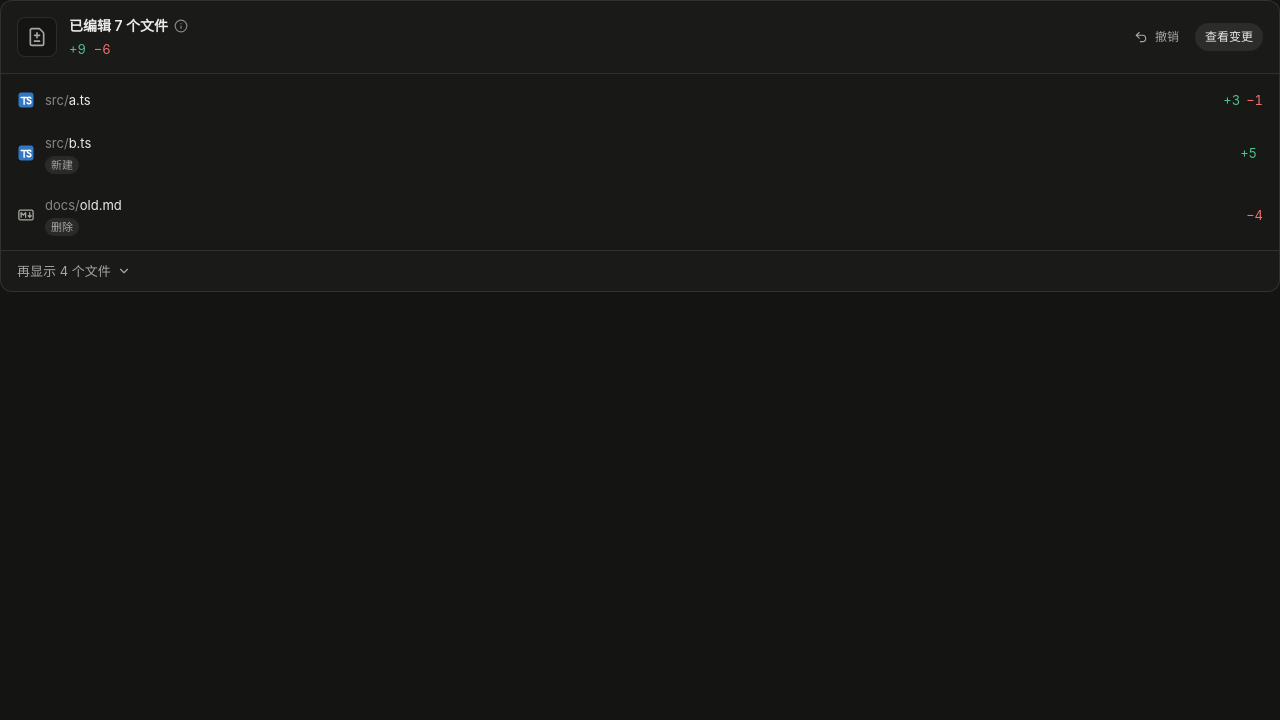
Test: TurnFilesCard › keeps the dialog open with the reason when undo is refused
Click the button "撤销". click: (1156, 37)
box: 1123,23 -> 1189,51
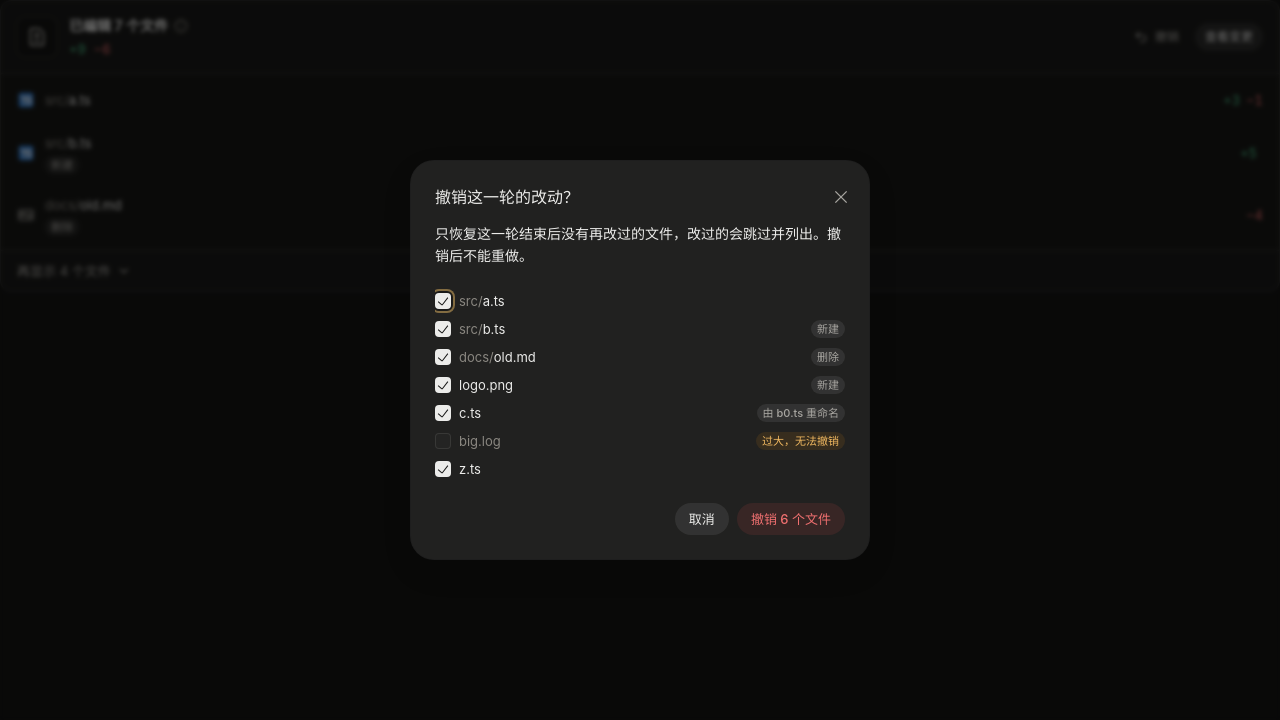
Click the button "撤销 6 个文件". click: (791, 519)
box: 737,503 -> 845,535
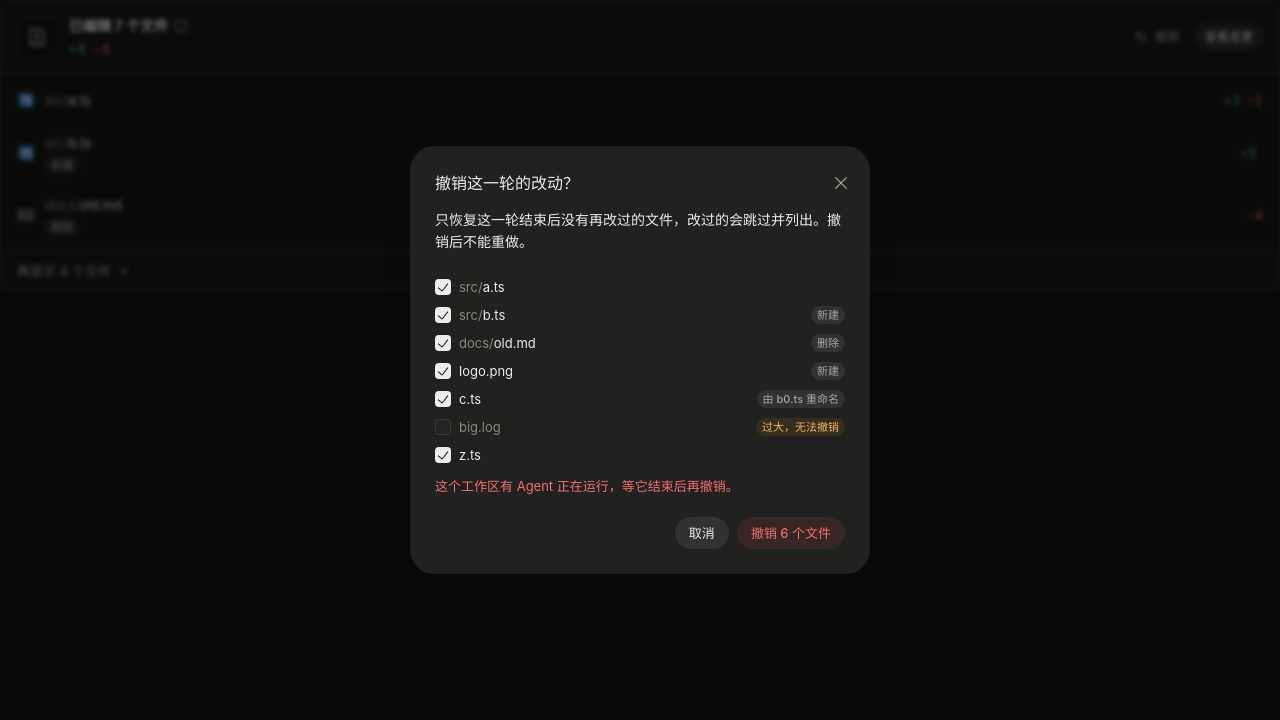
Check: the message "这个工作区有 Agent 正在运行，等它结束后再撤销。" is shown, box 435,478 -> 739,494
